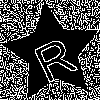R: (27, 28, 79, 85)
